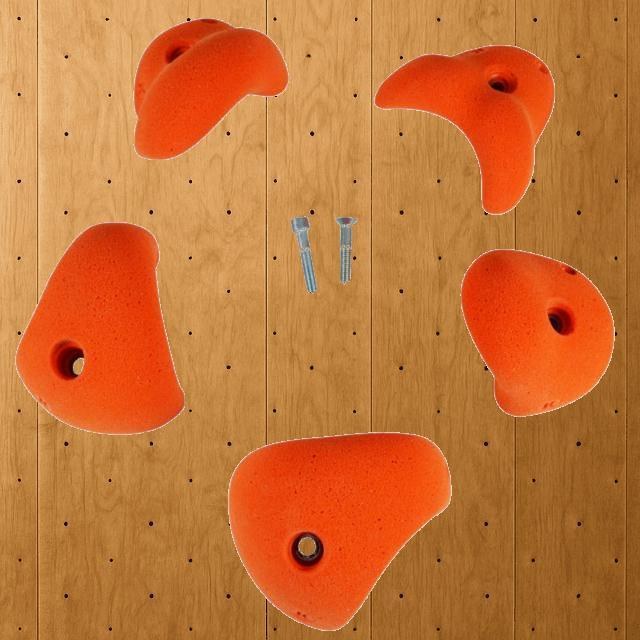Jug: (227, 431, 451, 631), (14, 222, 186, 434), (373, 44, 554, 215), (460, 248, 614, 416), (132, 17, 288, 160)
